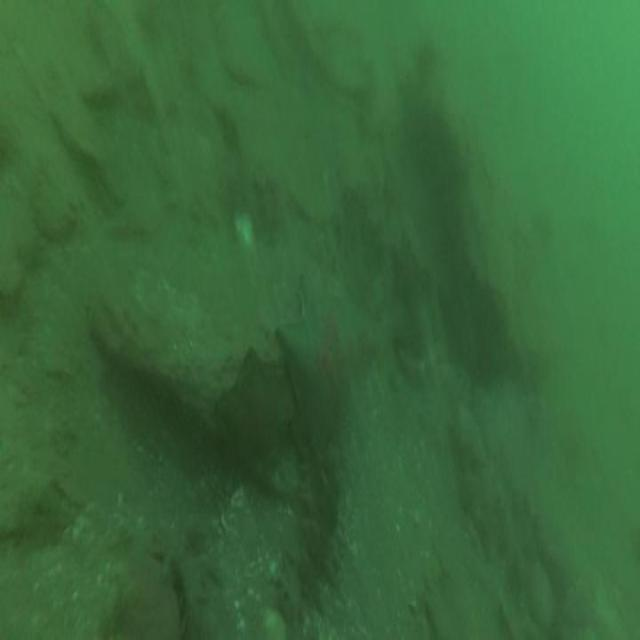holothurian: (281, 450, 339, 616)
scallop: (235, 214, 252, 246)
starfish: (276, 286, 359, 439), (215, 350, 282, 470)
